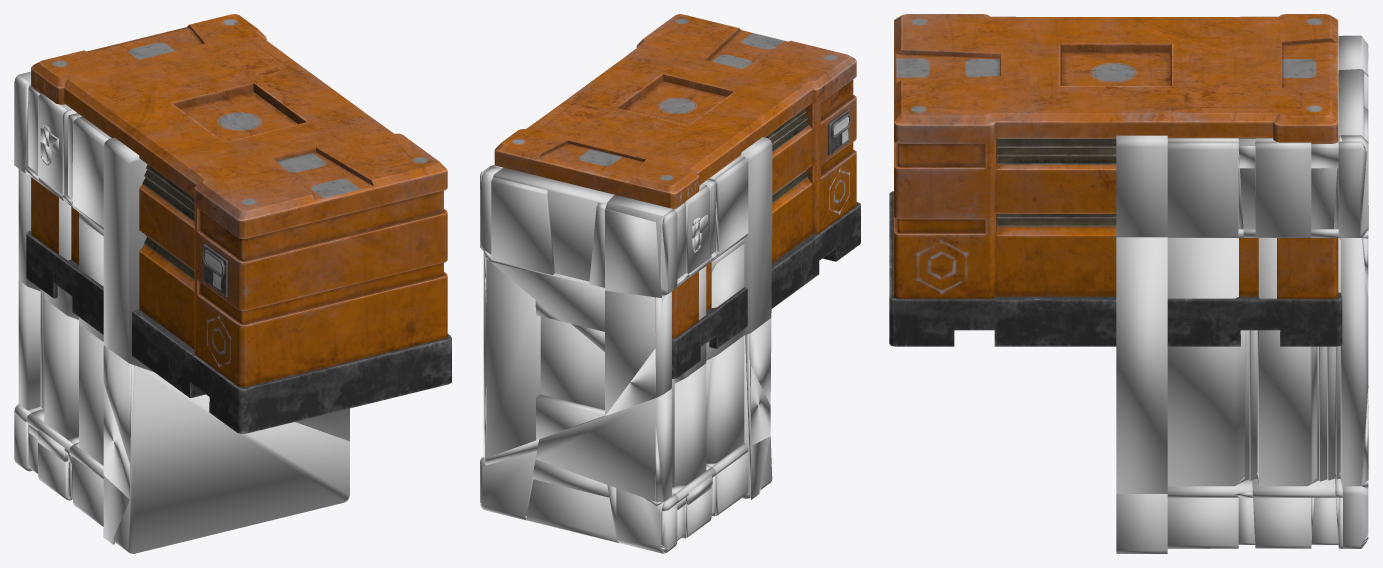
File: SM_Container.fbx
The picture shows the model from 3 angles, left to right: view 1: azimuth 30°, elevation 25°; view 2: azimuth 150°, elevation 25°; view 3: azimuth 270°, elevation 25°; orthographic projection. The views are drawn at different scales.
Parts seen in each view (by area): view 1: SM_Container, SM_Container_ConvexHulls; view 2: SM_Container_ConvexHulls, SM_Container; view 3: SM_Container, SM_Container_ConvexHulls.
Boxes of the visible parts, x1=… form: SM_Container: x1=26, y1=14, x2=451, y2=433; SM_Container_ConvexHulls: x1=14, y1=71, x2=349, y2=553; SM_Container_ConvexHulls: x1=480, y1=137, x2=772, y2=553; SM_Container: x1=494, y1=14, x2=860, y2=378; SM_Container: x1=889, y1=14, x2=1342, y2=346; SM_Container_ConvexHulls: x1=1116, y1=35, x2=1368, y2=553.
Size of the model in its own units: 2.11 by 3.78 by 3.77.
